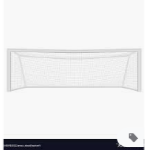goals: (3, 45, 144, 94)
